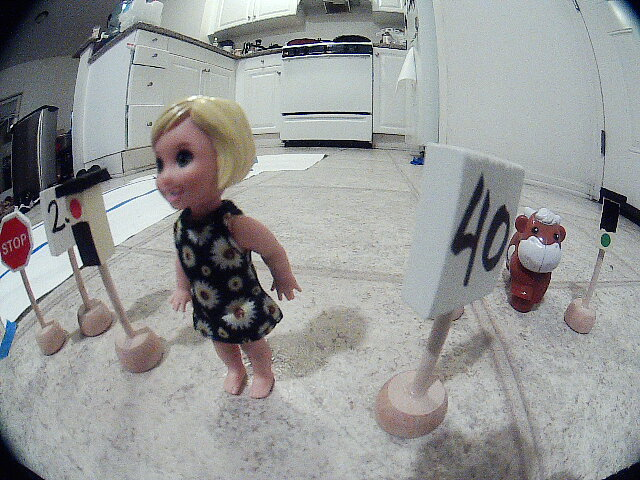Cow: (510, 197, 567, 333)
Green Traffic Light: (595, 179, 634, 268)
Person: (134, 101, 331, 421)
Red Traffic Light: (53, 175, 131, 281)
Speed Limit 40: (428, 139, 524, 325)
Stop Sign: (1, 209, 36, 273)
